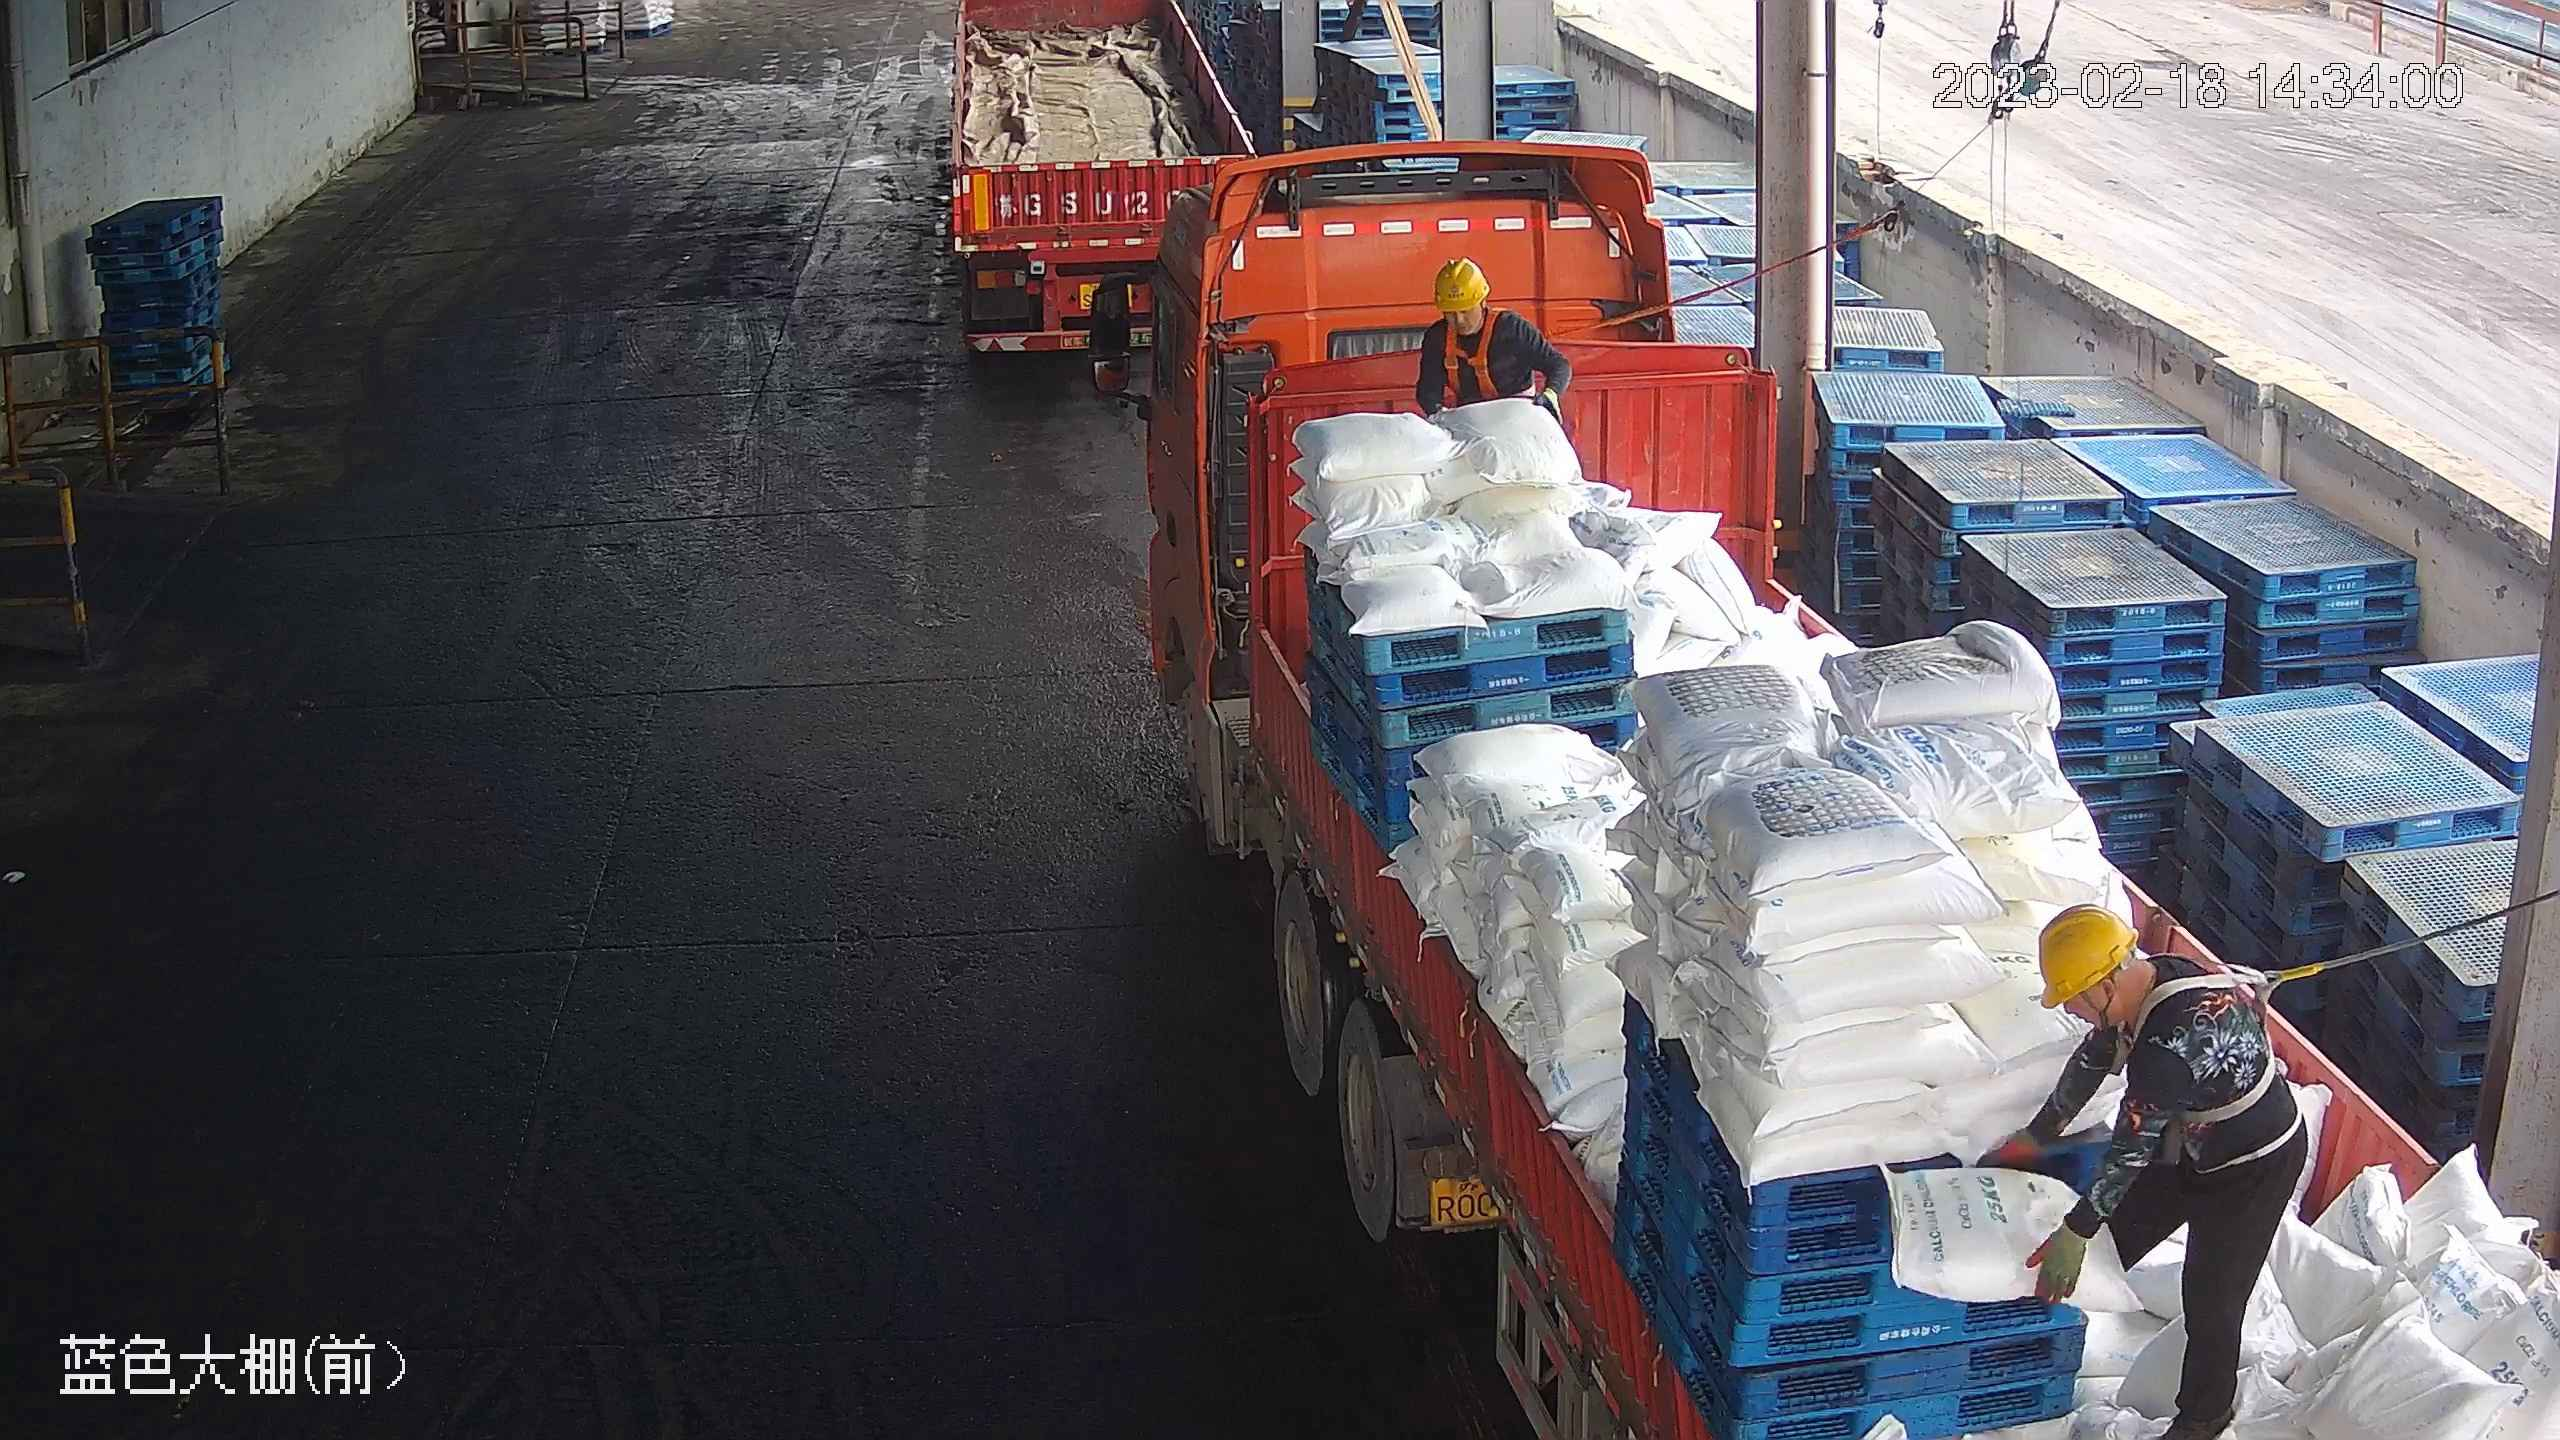belt: (2118, 944, 2320, 1118), (1432, 325, 1513, 405)
head: (2034, 905, 2237, 1128), (1417, 257, 1535, 389)
helmet: (2037, 903, 2151, 1013), (1432, 257, 1493, 313)
people: (1979, 905, 2312, 1440)
truck: (1083, 130, 2560, 1440), (937, 1, 1266, 393)
